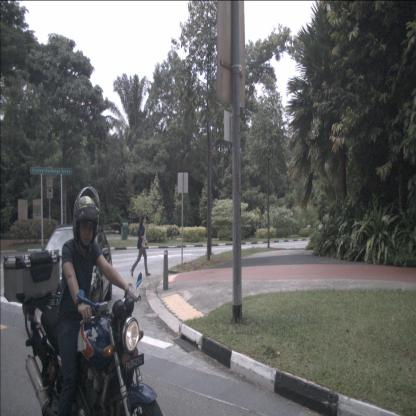human-pedestrian-adult: (130, 213, 152, 279)
vehicle-car: (22, 223, 112, 325)
vehicle-motorcycle: (3, 186, 163, 415)
